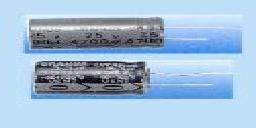Electrolytic Capacitor: (26, 14, 245, 55), (30, 57, 232, 97)
